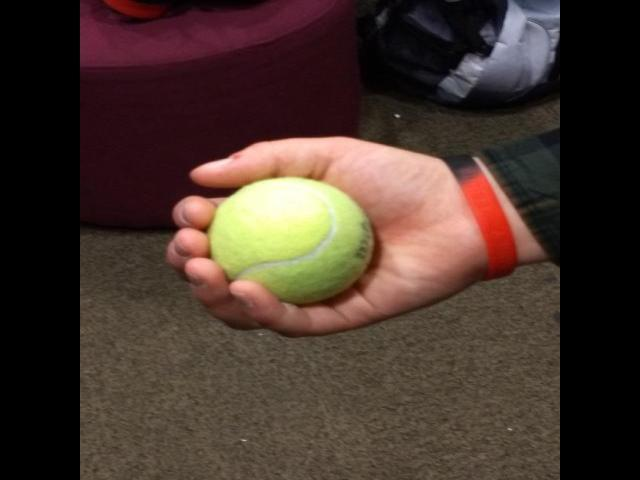tennis-ball: (208, 177, 372, 307)
